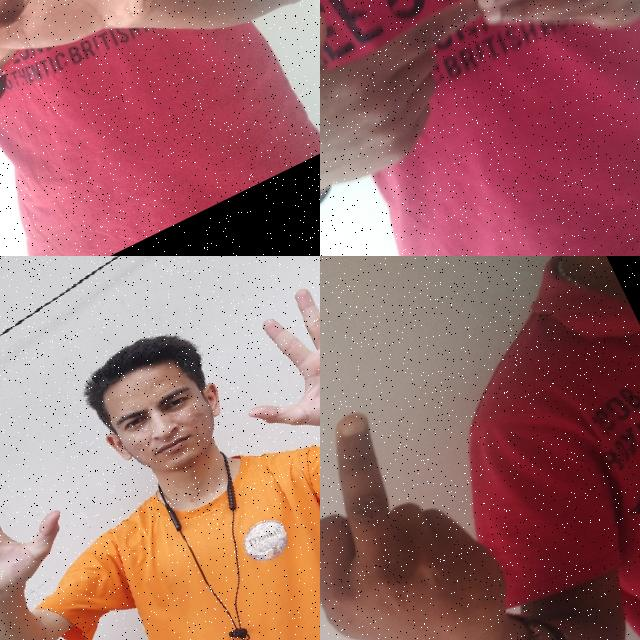Five Fathers: (320, 0, 640, 213)
Middle Finger: (320, 375, 545, 640)
Moutza: (0, 0, 267, 130), (198, 256, 320, 478), (0, 0, 203, 123), (0, 427, 96, 640)
